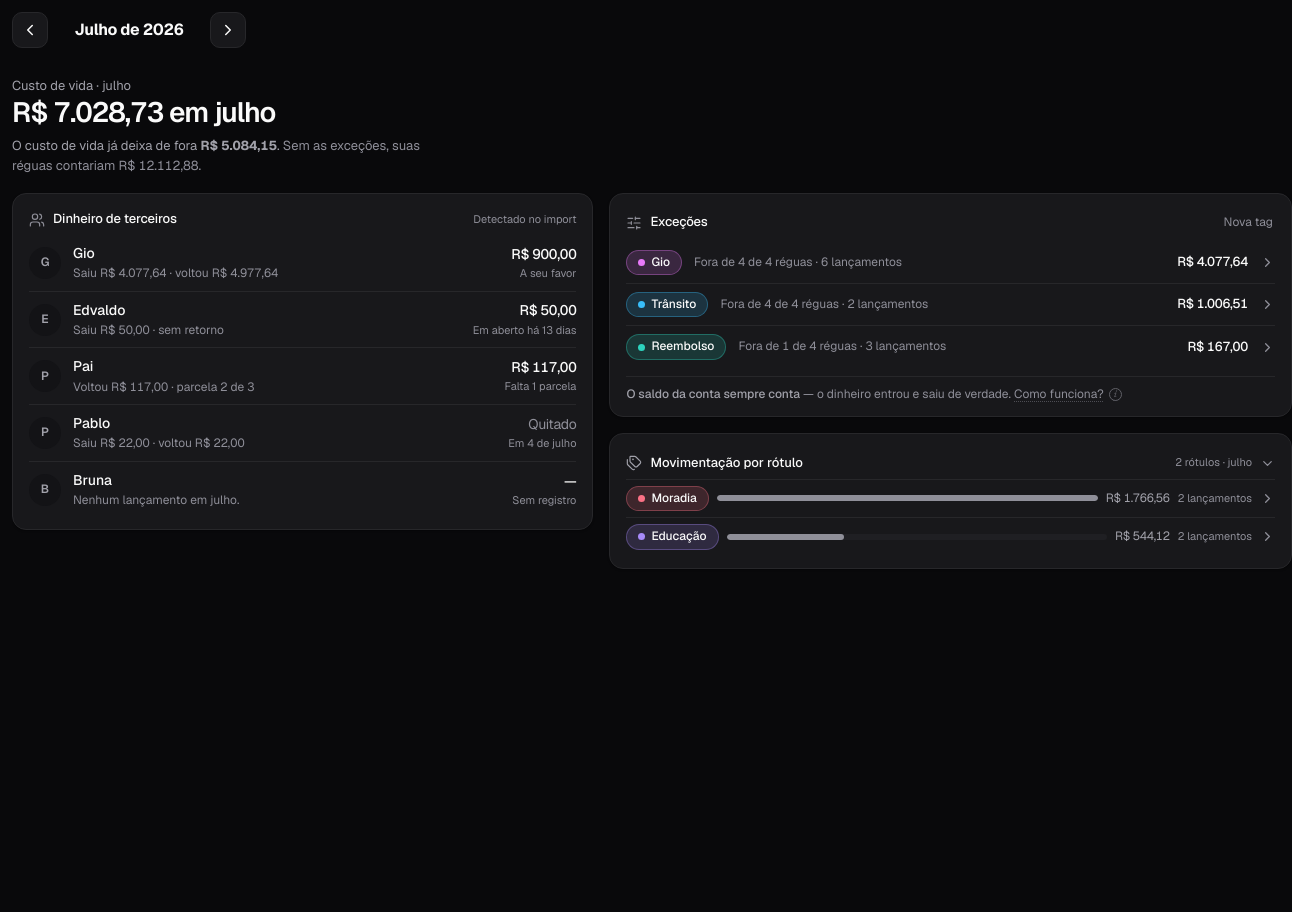
Test: TagsScreen › frase da régua: metade fixa sempre visível; efeito só quando desligada
This screenshot has width=1292, height=912.
Expected: the heading "Exceções" is shown, [650,214,708,232]
Click the heading "Gio" at coordinates (654, 262), box [626,242,1275,283]
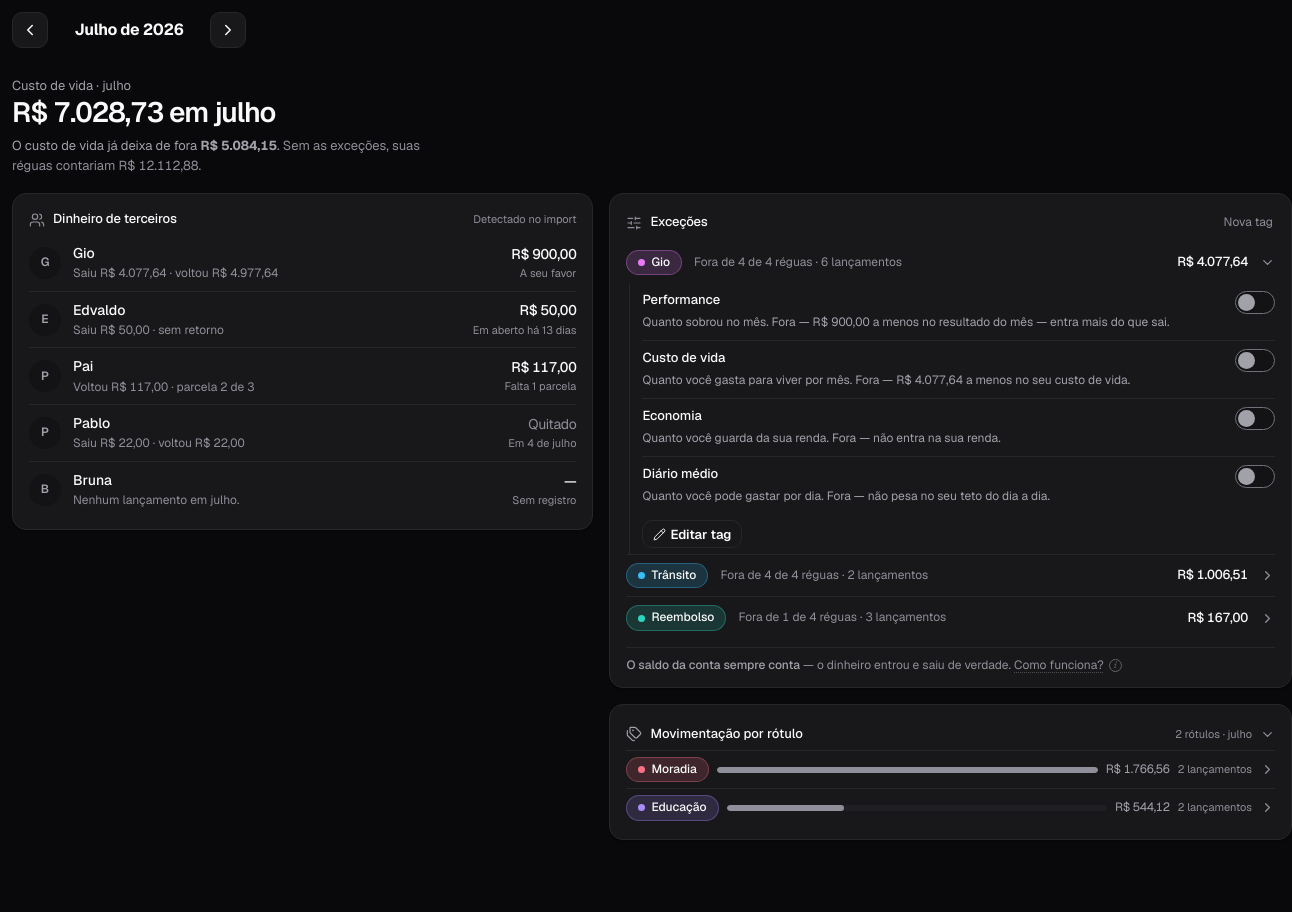
Result: the text "Quanto sobrou no mês." is shown at [642,314,768,330]
Result: the text "entra mais do que sai" is shown at [870,314,1169,330]
